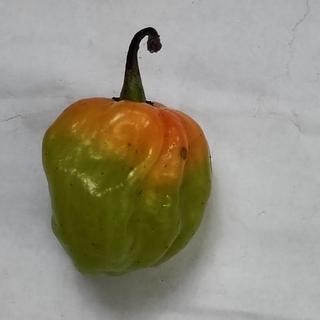Defect: (172, 142, 195, 164)
Fly-bites: (132, 184, 150, 203), (126, 162, 140, 174), (126, 141, 134, 149)
